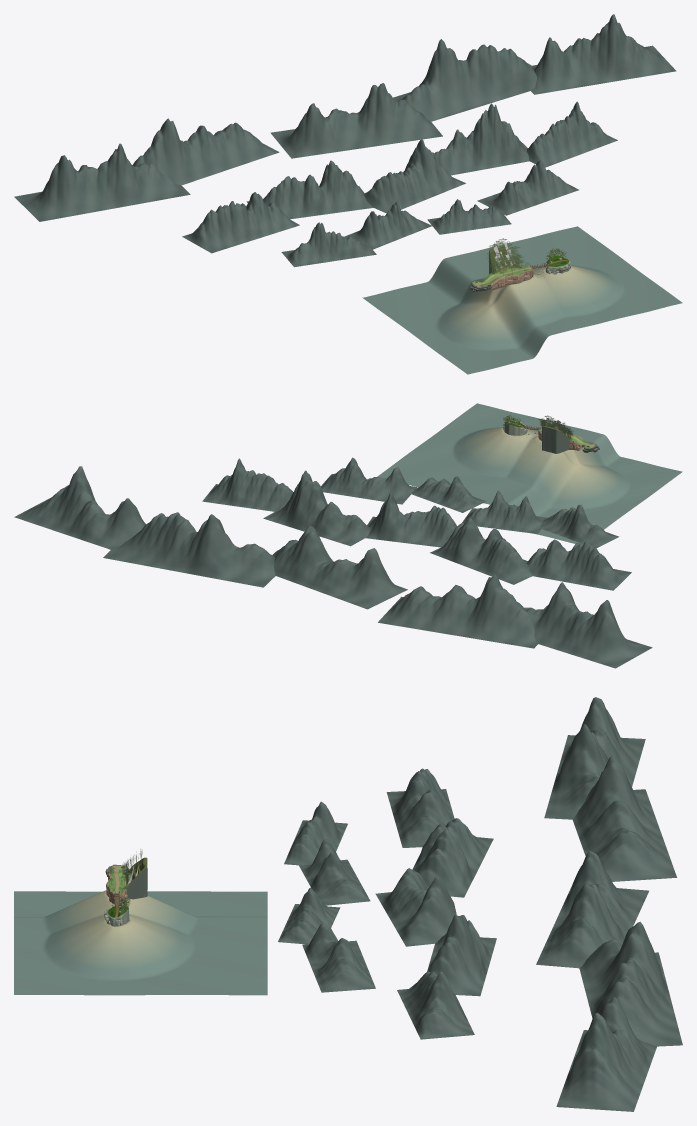
Rendered from nameless_island.glb.
3 views of the same model, one above another, from view 1: azimuth 30°, elevation 25°; view 2: azimuth 150°, elevation 25°; view 3: azimuth 270°, elevation 25° (orthographic). The views are drawn at different scales.
Parts seen in each view (by area): view 1: Fish_Seabed, Mist_Ridge_Far_00, Mist_Ridge_Far_03, Mist_Ridge_Far_02, Mist_Ridge_Far_04, Mist_Ridge_Far_01, Mist_Ridge_Mid_03, Mist_Ridge_Mid_01, Mist_Ridge_Mid_00, Mist_Ridge_Mid_02, Mist_Ridge_Mid_04, Mist_Ridge_Front_03 (+3 smaller); view 2: Fish_Seabed, Mist_Ridge_Far_03, Mist_Ridge_Far_01, Mist_Ridge_Far_02, Mist_Ridge_Far_00, Mist_Ridge_Far_04, Mist_Ridge_Mid_03, Mist_Ridge_Mid_01, Mist_Ridge_Mid_00, Mist_Ridge_Mid_02, Mist_Ridge_Mid_04, Mist_Ridge_Front_03 (+4 smaller); view 3: Fish_Seabed, Mist_Ridge_Far_01, Mist_Ridge_Far_03, Mist_Ridge_Far_04, Mist_Ridge_Far_02, Mist_Ridge_Far_00, Mist_Ridge_Mid_02, Mist_Ridge_Mid_01, Mist_Ridge_Mid_03, Mist_Ridge_Mid_00, Mist_Ridge_Mid_04, Mist_Ridge_Front_03 (+4 smaller).
Part boxes in pixels (box(x1,y1,x2,y2)): Fish_Seabed: box(362, 226, 682, 374); Mist_Ridge_Far_00: box(14, 143, 190, 221); Mist_Ridge_Far_03: box(393, 39, 536, 121); Mist_Ridge_Far_02: box(270, 83, 442, 158); Mist_Ridge_Far_04: box(531, 14, 676, 94); Mist_Ridge_Far_01: box(132, 118, 279, 185); Mist_Ridge_Mid_03: box(434, 103, 529, 175); Mist_Ridge_Mid_01: box(246, 160, 373, 219); Mist_Ridge_Mid_00: box(182, 192, 299, 253); Mist_Ridge_Mid_02: box(364, 139, 465, 213); Mist_Ridge_Mid_04: box(526, 101, 617, 167); Mist_Ridge_Front_03: box(477, 160, 578, 215); Fish_Seabed: box(377, 403, 682, 544); Mist_Ridge_Far_03: box(103, 512, 275, 587); Mist_Ridge_Far_01: box(378, 574, 537, 648); Mist_Ridge_Far_02: box(272, 525, 407, 609); Mist_Ridge_Far_00: box(524, 582, 652, 668); Mist_Ridge_Far_04: box(14, 466, 145, 549); Mist_Ridge_Mid_03: box(263, 470, 370, 546); Mist_Ridge_Mid_01: box(430, 518, 532, 584); Mist_Ridge_Mid_00: box(527, 539, 631, 590); Mist_Ridge_Mid_02: box(365, 492, 457, 547); Mist_Ridge_Mid_04: box(202, 458, 293, 511); Mist_Ridge_Front_03: box(321, 457, 417, 504); Fish_Seabed: box(14, 890, 267, 995); Mist_Ridge_Far_01: box(572, 756, 676, 881); Mist_Ridge_Far_03: box(579, 921, 682, 1046); Mist_Ridge_Far_04: box(556, 997, 656, 1111); Mist_Ridge_Far_02: box(536, 851, 648, 968); Mist_Ridge_Far_00: box(544, 697, 645, 819); Mist_Ridge_Mid_02: box(375, 868, 456, 946); Mist_Ridge_Mid_01: box(412, 818, 493, 897); Mist_Ridge_Mid_03: box(427, 914, 496, 996); Mist_Ridge_Mid_00: box(386, 768, 454, 847); Mist_Ridge_Mid_04: box(397, 971, 474, 1039); Mist_Ridge_Front_03: box(302, 922, 375, 992).
Size of what is drawn, in the model's own units: 387 by 51.34 by 290.
39 materials, 24 textured.
